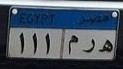1: (18, 31, 26, 55), (32, 33, 40, 56), (44, 31, 51, 56)
haa: (97, 38, 114, 56)
meem: (66, 33, 79, 57)
raa: (81, 36, 95, 55)
